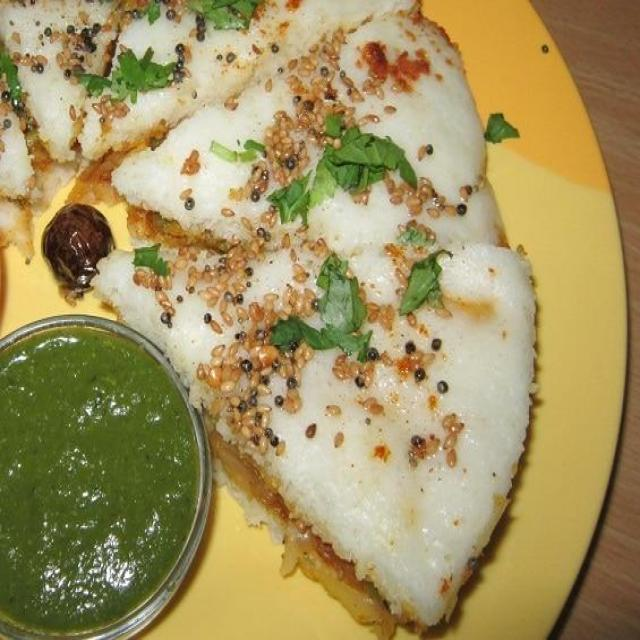dhokla: (1, 6, 520, 611)
